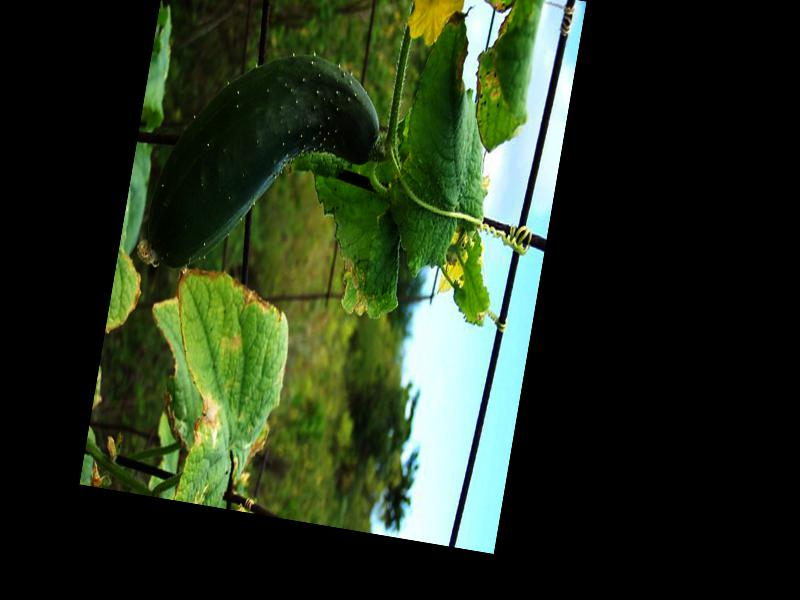Cucumber: (139, 35, 392, 301)
